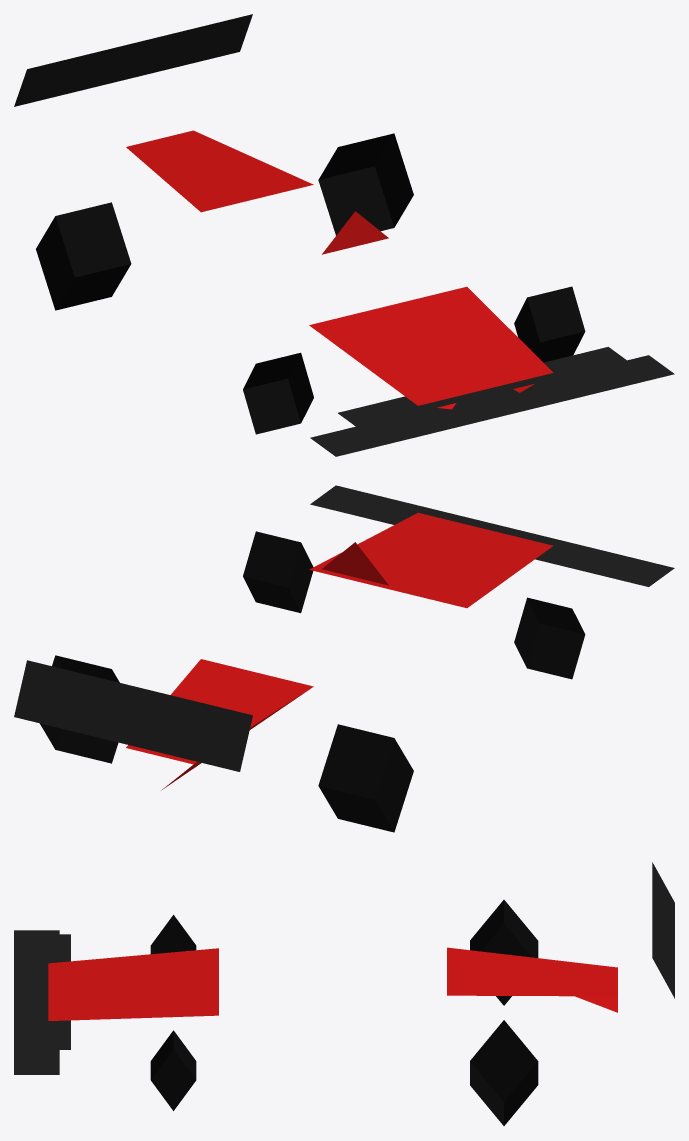
3 renders of one model, top to bottom at view 1: azimuth 30°, elevation 25°; view 2: azimuth 150°, elevation 25°; view 3: azimuth 270°, elevation 25°, orthographic. The views are drawn at different scales.
Parts seen in each view (by area): view 1: F1_Car_V3; view 2: F1_Car_V3; view 3: F1_Car_V3.
Part boxes in pixels (x1=…): F1_Car_V3: x1=14, y1=14, x2=674, y2=456; F1_Car_V3: x1=14, y1=485, x2=674, y2=832; F1_Car_V3: x1=14, y1=862, x2=674, y2=1125.
Size of the model in its own units: 3 by 1.4 by 5.8.
